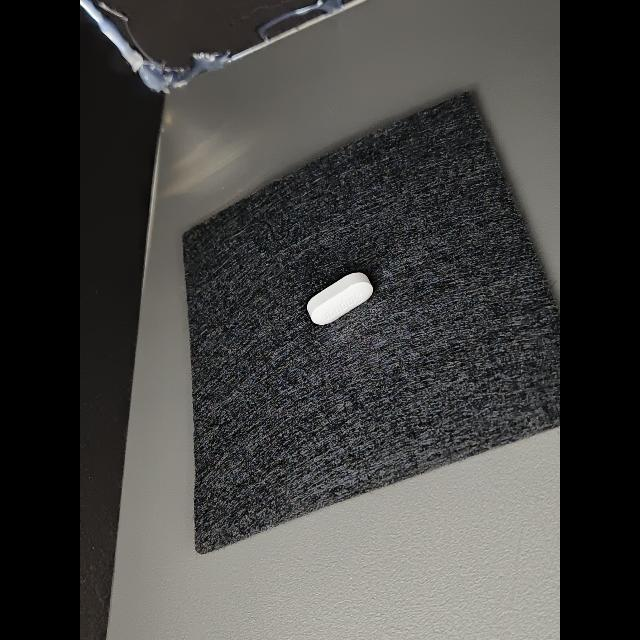Intact Pill: (307, 273, 373, 325)
